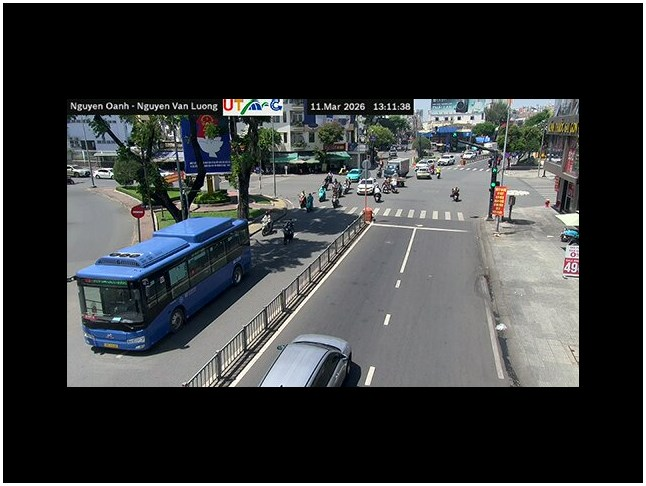bus: (74, 214, 254, 351)
car: (259, 333, 358, 385), (415, 167, 432, 180)
